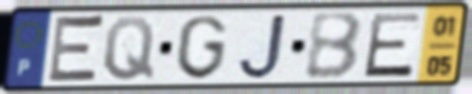B: (303, 11, 366, 82)
E: (44, 12, 108, 86), (361, 10, 425, 80)
G: (174, 13, 230, 82)
J: (235, 12, 290, 83)
Q: (100, 14, 156, 84)
